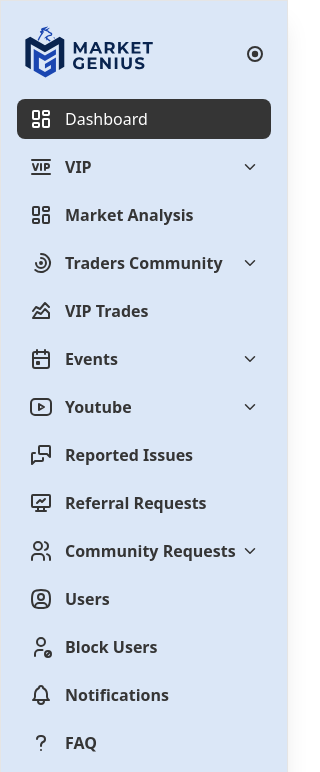
Sidebar revenue links › shows the revenue links once the server grants revenue:read
What coordinates should you click on to do the following:
click the link "VIP"
I would click on:
 (41, 167)
Its box is [17, 147, 271, 187].
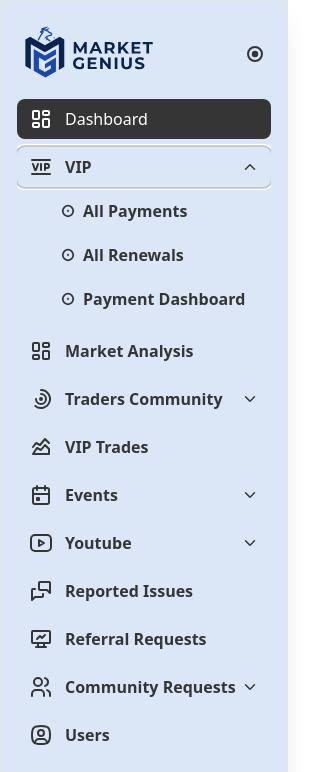
Check: the text "All Renewals" is shown, box [61, 243, 184, 267]
Check: the text "Payment Dashboard" is shown, box [61, 287, 245, 311]
